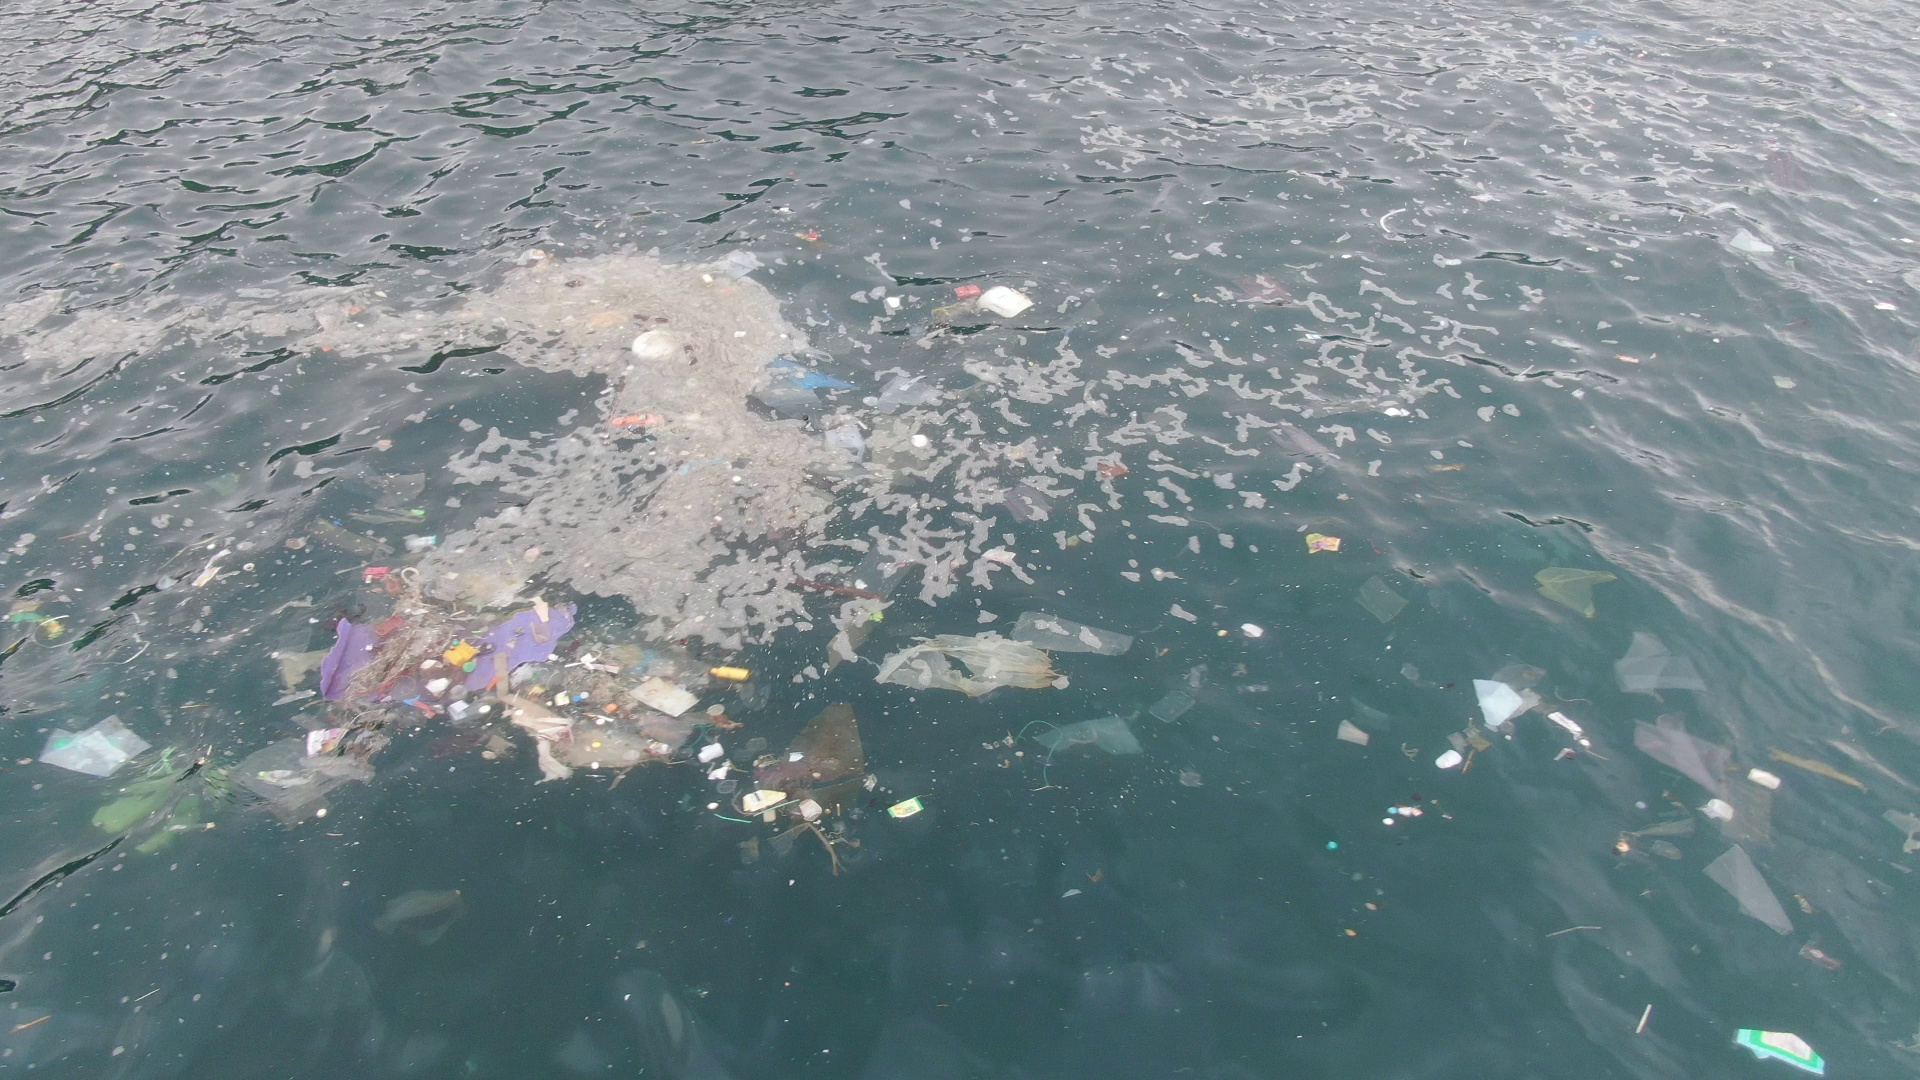garbage: (287, 551, 932, 876), (1614, 633, 1796, 936), (884, 611, 1195, 760), (44, 715, 228, 852), (1428, 665, 1609, 790), (760, 347, 862, 427), (587, 301, 695, 360), (1530, 558, 1618, 620), (923, 284, 1036, 331), (1737, 1025, 1830, 1076), (3, 592, 66, 644), (609, 407, 670, 433), (1305, 531, 1342, 558), (1093, 458, 1131, 481)
